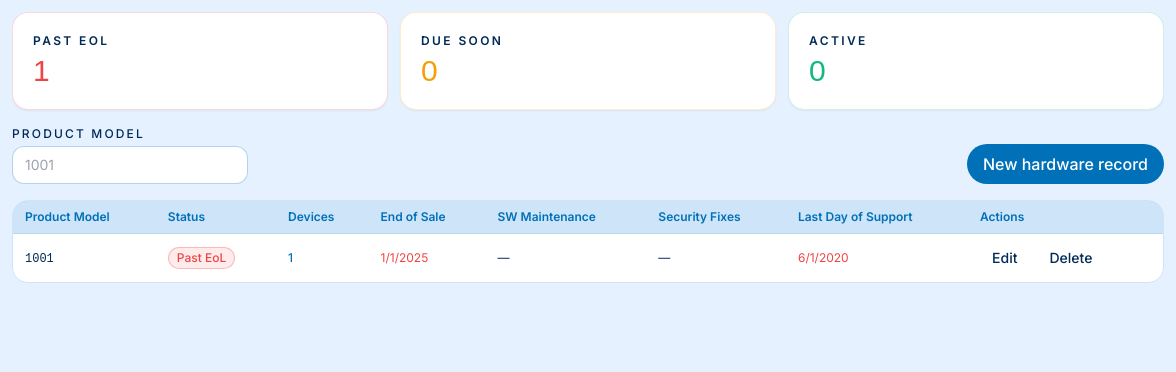
Lifecycle pages › filters the hardware table by clicking a status summary card
Expected: the text "1001" is shown, x1=25 y1=252 x2=54 y2=266
// The only record is Past EoL, so filtering to Active empties the table.
Click the button "Active 0".
click(838, 40)  # box x1=788 y1=12 x2=1164 y2=110
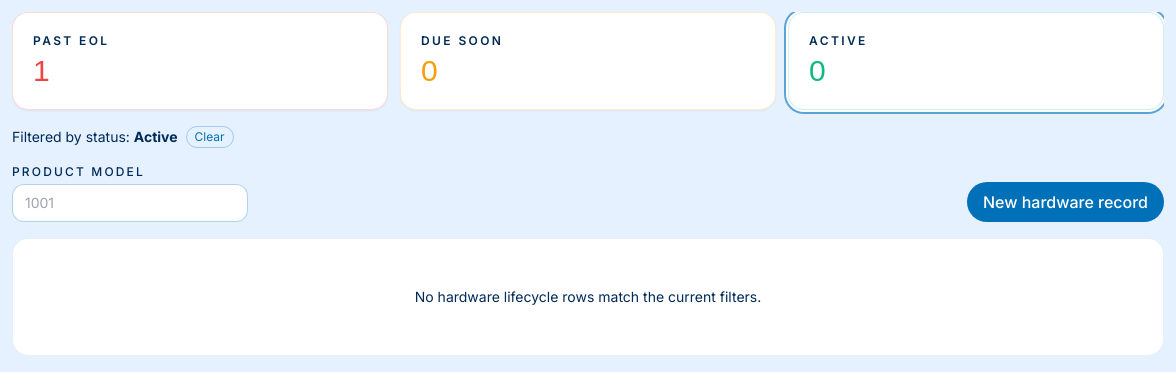
Result: the text "No hardware lifecycle rows match the current filters." is shown at x1=415 y1=287 x2=761 y2=307
